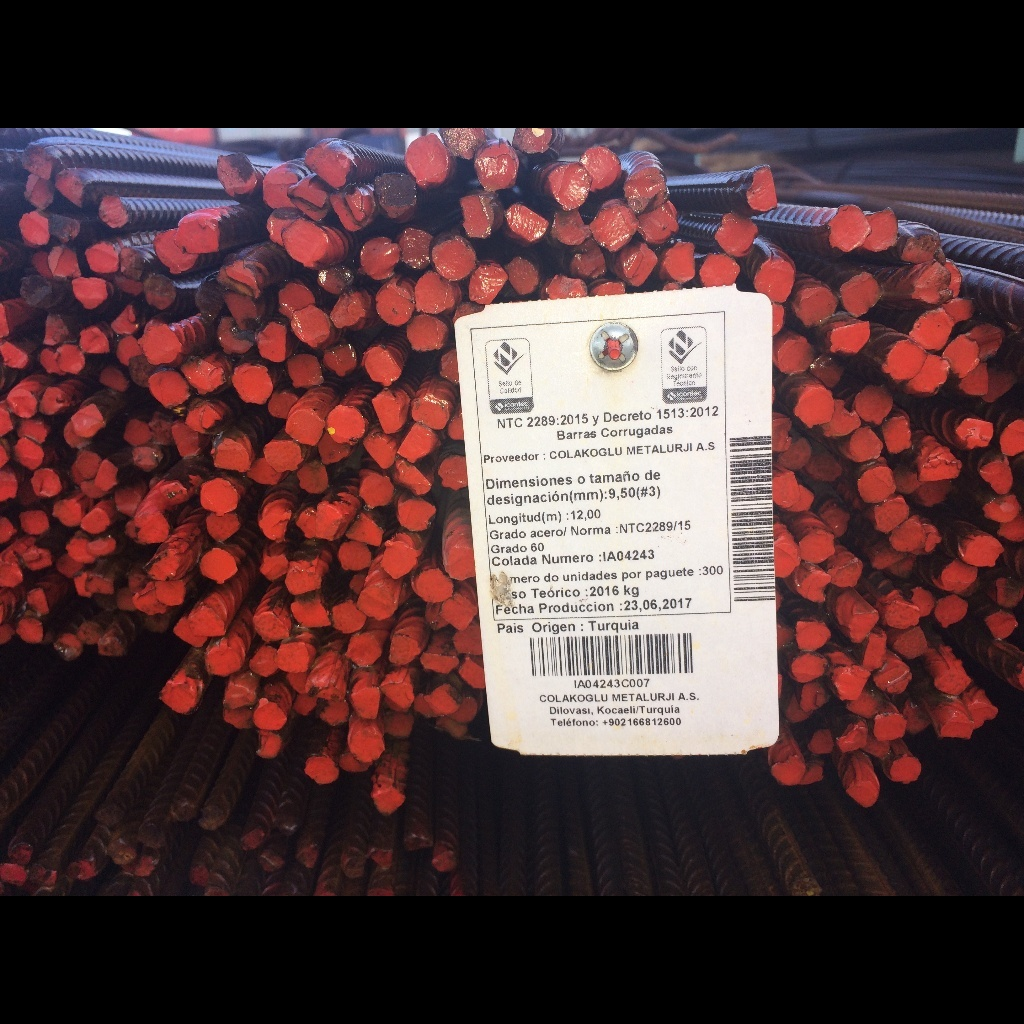dipstick: (331, 181, 381, 232), (826, 203, 872, 254), (281, 220, 329, 268), (474, 142, 520, 192), (305, 142, 351, 189), (592, 204, 639, 250), (217, 256, 266, 300), (623, 168, 669, 214), (154, 229, 199, 276), (547, 163, 590, 212), (406, 141, 451, 187), (374, 170, 415, 220), (289, 174, 331, 221), (839, 270, 881, 317), (793, 283, 838, 326), (909, 306, 953, 349), (580, 145, 621, 191), (862, 206, 899, 256), (215, 153, 258, 196), (637, 201, 679, 245), (176, 213, 221, 254), (415, 271, 456, 316), (374, 280, 413, 327), (211, 433, 255, 474), (753, 259, 794, 303), (908, 352, 950, 394), (140, 323, 183, 364), (432, 238, 475, 279), (794, 386, 835, 429), (149, 370, 191, 411), (232, 363, 273, 405), (885, 339, 926, 381), (912, 261, 952, 304), (360, 237, 399, 281), (506, 203, 550, 242), (716, 211, 755, 255), (311, 653, 346, 701), (744, 164, 778, 213), (182, 356, 227, 393), (19, 275, 65, 311), (156, 677, 198, 716), (292, 305, 330, 348), (398, 227, 435, 271), (222, 681, 255, 730), (284, 407, 324, 447), (857, 465, 897, 505), (205, 640, 246, 679), (468, 265, 509, 304), (855, 383, 894, 424), (445, 535, 479, 582), (944, 335, 979, 380), (223, 290, 262, 330), (199, 547, 239, 586), (407, 314, 447, 353), (821, 399, 861, 438), (622, 244, 659, 286), (460, 194, 494, 239), (364, 346, 402, 386), (358, 584, 399, 621), (263, 167, 298, 210), (829, 320, 872, 355), (328, 404, 366, 443), (381, 540, 418, 580), (398, 424, 436, 462), (568, 242, 606, 280), (276, 283, 316, 319), (251, 609, 292, 644), (413, 568, 454, 603), (397, 499, 438, 534), (267, 208, 304, 246), (441, 593, 477, 632), (200, 479, 240, 514), (372, 391, 406, 432), (901, 227, 938, 264), (828, 553, 865, 590), (314, 688, 350, 726), (701, 254, 739, 290), (849, 424, 884, 463), (332, 288, 365, 329), (663, 241, 696, 282), (963, 536, 1004, 569), (777, 338, 814, 374), (834, 665, 870, 702), (71, 277, 109, 312), (410, 395, 449, 429), (979, 457, 1013, 496), (196, 277, 226, 321), (258, 502, 290, 543), (291, 597, 332, 629), (348, 731, 389, 763), (889, 517, 925, 553), (395, 459, 432, 494), (333, 597, 367, 635), (347, 513, 385, 547), (54, 169, 87, 208), (71, 403, 107, 438), (942, 557, 977, 593), (21, 143, 55, 180), (265, 440, 303, 473), (552, 209, 585, 247), (23, 172, 55, 211), (360, 472, 392, 511), (807, 451, 846, 483), (252, 698, 288, 732), (287, 354, 323, 388), (875, 497, 911, 531), (933, 595, 969, 629), (188, 605, 226, 637), (346, 635, 381, 669), (801, 530, 836, 564), (796, 569, 830, 604), (133, 582, 169, 615), (968, 325, 1004, 358), (144, 274, 176, 311), (171, 421, 203, 458), (778, 435, 810, 472), (378, 707, 416, 738), (920, 453, 959, 483), (323, 342, 357, 376), (47, 246, 82, 279), (204, 512, 241, 543), (795, 621, 830, 653), (543, 274, 586, 300), (438, 454, 469, 490), (956, 417, 992, 448), (143, 550, 180, 580), (508, 257, 538, 294), (884, 415, 911, 456), (97, 196, 130, 229), (10, 437, 43, 470), (296, 460, 328, 494), (275, 642, 309, 674), (247, 456, 282, 487), (173, 617, 208, 648), (349, 685, 380, 720), (425, 685, 460, 716), (848, 607, 879, 642), (286, 564, 322, 594), (365, 433, 395, 469), (960, 361, 990, 397), (319, 432, 351, 465), (381, 680, 413, 713), (19, 211, 50, 245), (885, 598, 919, 629), (319, 266, 354, 296), (304, 756, 339, 786), (370, 787, 406, 816), (388, 634, 420, 666), (770, 472, 800, 506), (791, 654, 826, 683), (187, 406, 223, 434), (874, 665, 910, 693), (259, 323, 286, 360), (339, 541, 371, 572), (48, 212, 81, 242), (86, 243, 119, 273), (30, 469, 63, 499), (452, 625, 485, 655), (135, 516, 170, 544), (893, 631, 928, 659), (983, 495, 1019, 522), (770, 759, 806, 786), (319, 499, 342, 541), (40, 386, 71, 417), (249, 646, 280, 677), (55, 344, 87, 374), (78, 326, 111, 355), (154, 579, 187, 608), (985, 612, 1018, 641), (941, 713, 974, 742), (420, 651, 459, 675), (935, 670, 971, 696), (111, 304, 141, 335), (7, 386, 38, 416), (267, 390, 299, 419), (119, 247, 146, 281), (53, 499, 83, 529), (42, 313, 71, 344), (838, 721, 866, 753), (875, 715, 908, 742), (891, 755, 921, 784), (148, 417, 176, 448), (459, 657, 485, 690), (17, 617, 46, 646), (1, 340, 29, 370), (133, 445, 164, 472), (66, 537, 97, 564), (18, 509, 50, 535), (97, 631, 129, 657), (296, 505, 320, 539), (996, 575, 1020, 609), (39, 348, 67, 377), (80, 507, 109, 535), (129, 356, 156, 386), (54, 632, 81, 662), (255, 730, 282, 760), (115, 488, 143, 516), (75, 450, 101, 480), (22, 546, 54, 570), (862, 637, 885, 670), (845, 784, 878, 807), (260, 554, 288, 581), (63, 421, 92, 447), (116, 336, 142, 365), (17, 419, 48, 443), (26, 588, 51, 617), (449, 697, 478, 722), (95, 461, 119, 491), (101, 367, 129, 392), (85, 573, 116, 595), (808, 729, 834, 755), (124, 419, 151, 444), (56, 553, 83, 578), (160, 481, 189, 504), (337, 751, 370, 771), (292, 692, 316, 717), (286, 670, 310, 695), (128, 571, 153, 594), (88, 537, 116, 557), (78, 619, 101, 643), (115, 588, 139, 610), (74, 574, 91, 599)
